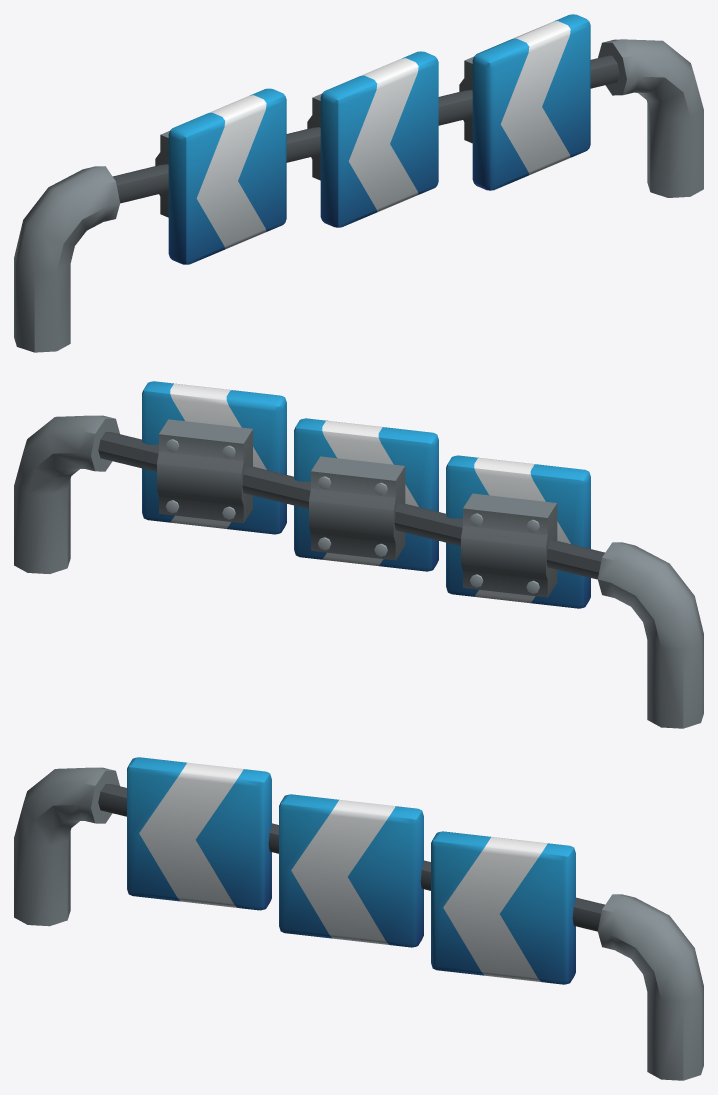
The model's file is signage_arrows_left_blue.glb.
The picture shows the model from 3 angles, top to bottom: view 1: azimuth 30°, elevation 25°; view 2: azimuth 150°, elevation 25°; view 3: azimuth 330°, elevation 25°; orthographic projection.
Parts seen in each view (by area): view 1: signage_arrows_left_blue; view 2: signage_arrows_left_blue; view 3: signage_arrows_left_blue.
Part boxes in pixels (x1,y1,x2,y2): signage_arrows_left_blue: [14, 14, 703, 352]; signage_arrows_left_blue: [14, 381, 703, 728]; signage_arrows_left_blue: [14, 757, 703, 1080].
Bounding box in the file's own units: 5.4 × 1.5 × 0.6771.
1 material, 1 textured.
